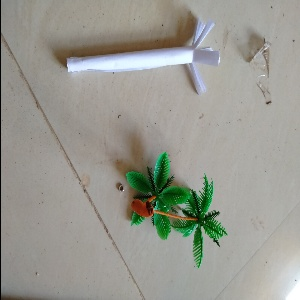plant: (118, 143, 222, 259)
weed: (58, 22, 215, 96)
